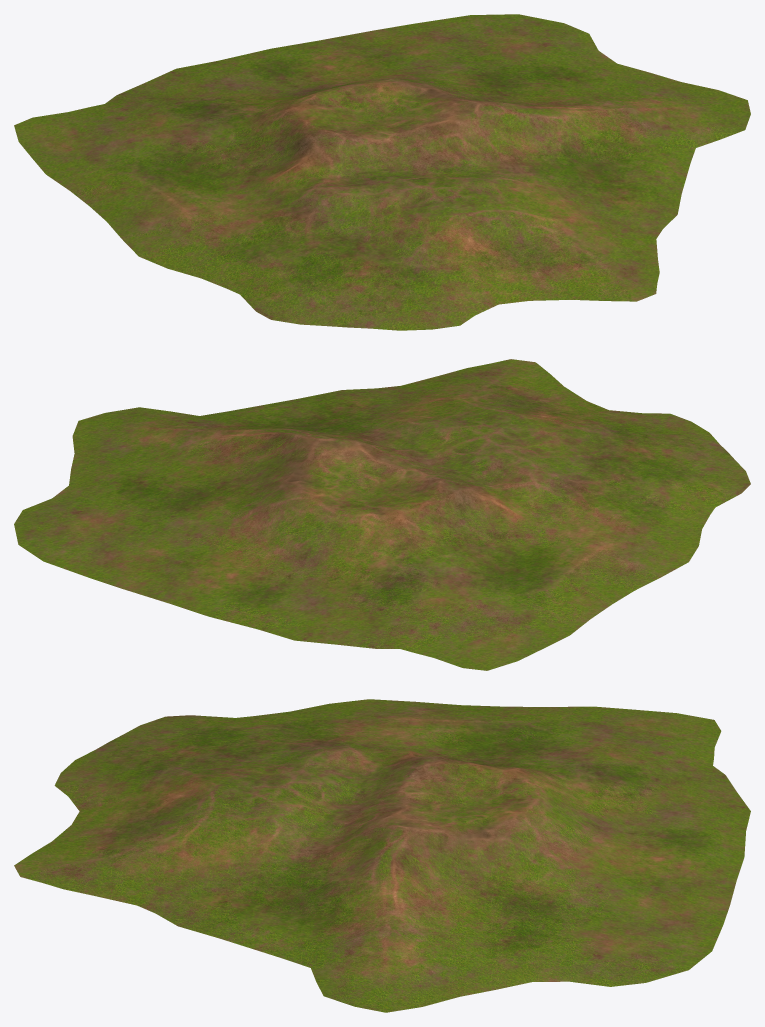
Rendered from EP1_terrain01c.fbx.
The picture shows the model from 3 angles, top to bottom: view 1: azimuth 30°, elevation 25°; view 2: azimuth 150°, elevation 25°; view 3: azimuth 270°, elevation 25°; orthographic projection. The views are drawn at different scales.
Parts seen in each view (by area): view 1: Terrain01c; view 2: Terrain01c; view 3: Terrain01c.
Part boxes in pixels (x1,y1,x2,y2): Terrain01c: (14, 14, 750, 330); Terrain01c: (14, 359, 750, 670); Terrain01c: (14, 699, 750, 1012).
Size of the model in its own units: 22.77 by 1.82 by 22.61.
